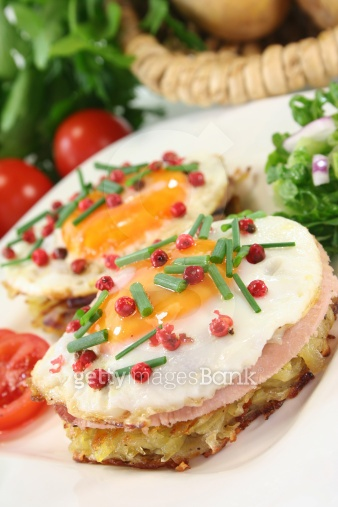fried egg: (56, 233, 318, 415), (40, 159, 229, 273)
